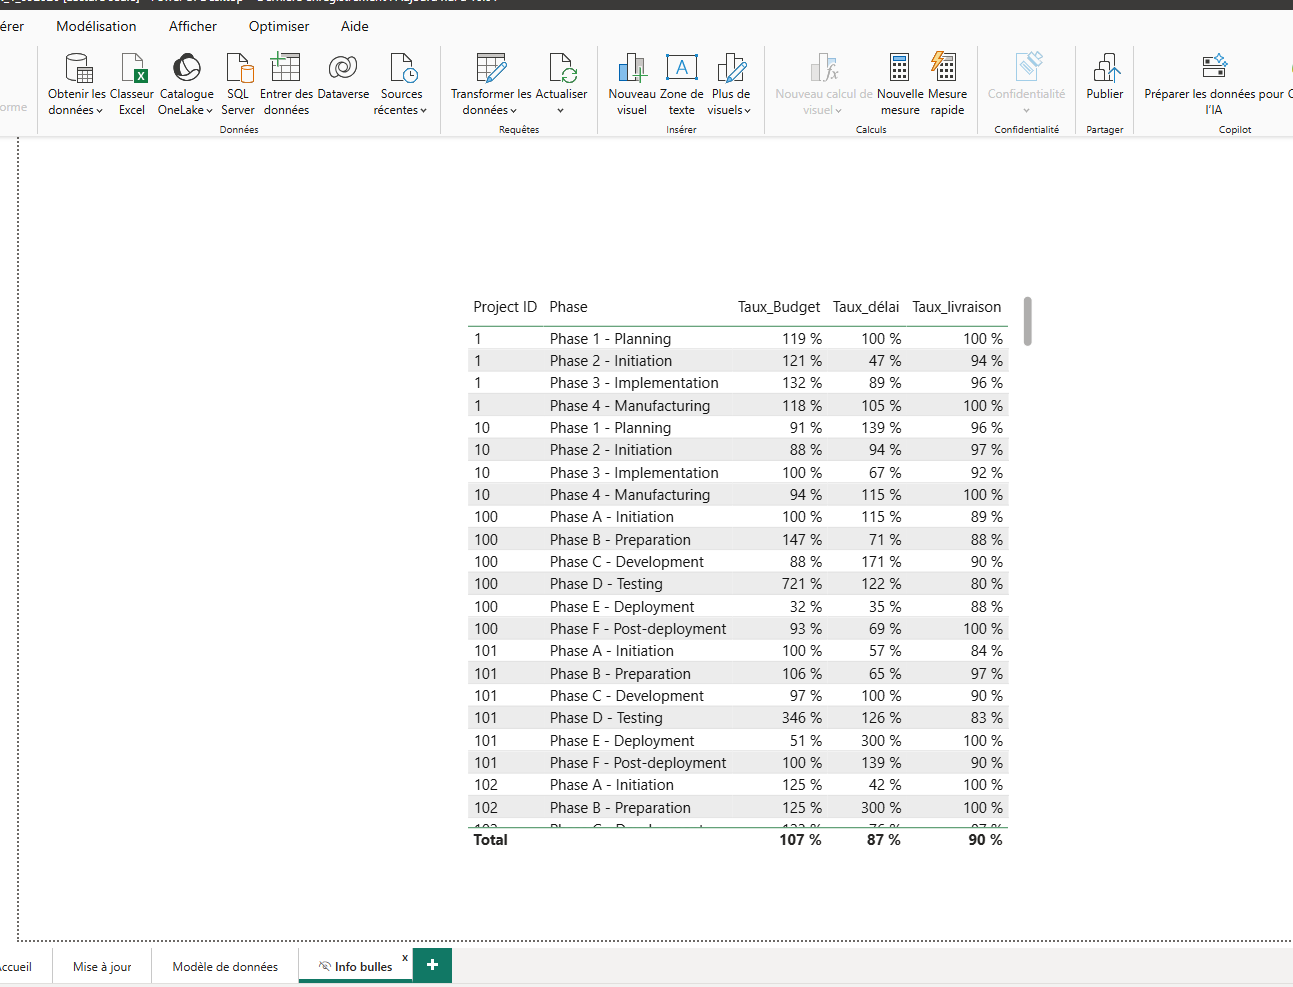

Layout of this report page (visuals, bound fields, positions):
{"tool":"powerbi","page":{"name":"Info bulles","canvas":[1280,720],"ordinal":3},"visuals":[{"type":"tableEx","fields":{"Values":["Projects_plans.Project ID","Projects_plans.Phase","Projects_plans.Taux_Budget","Projects_plans.Taux_délai","Projects_plans.Taux_livraison"]},"box":[395.8,137.9,516.7,506],"z":0}]}

Visuals, with their boxes on the page's 1280x720 design canvas (x1, y1, x2, y2). These are canvas units, not pixel positions in the 1293x987 screenshot, which may show the page scaled, cropped or inside an application window:
tableEx - Projects_plans.Project ID x Projects_plans.Phase: select_region(396, 138, 912, 644)
